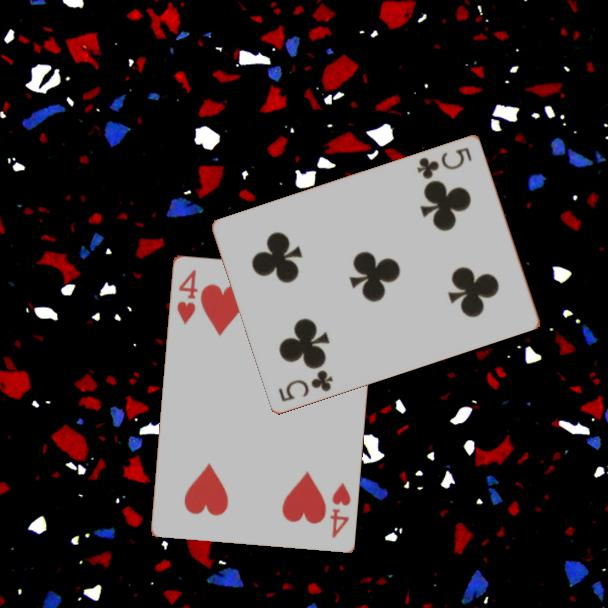c05: (413, 143, 475, 182), (275, 366, 336, 404)
h04: (326, 478, 353, 540), (173, 266, 200, 327)
